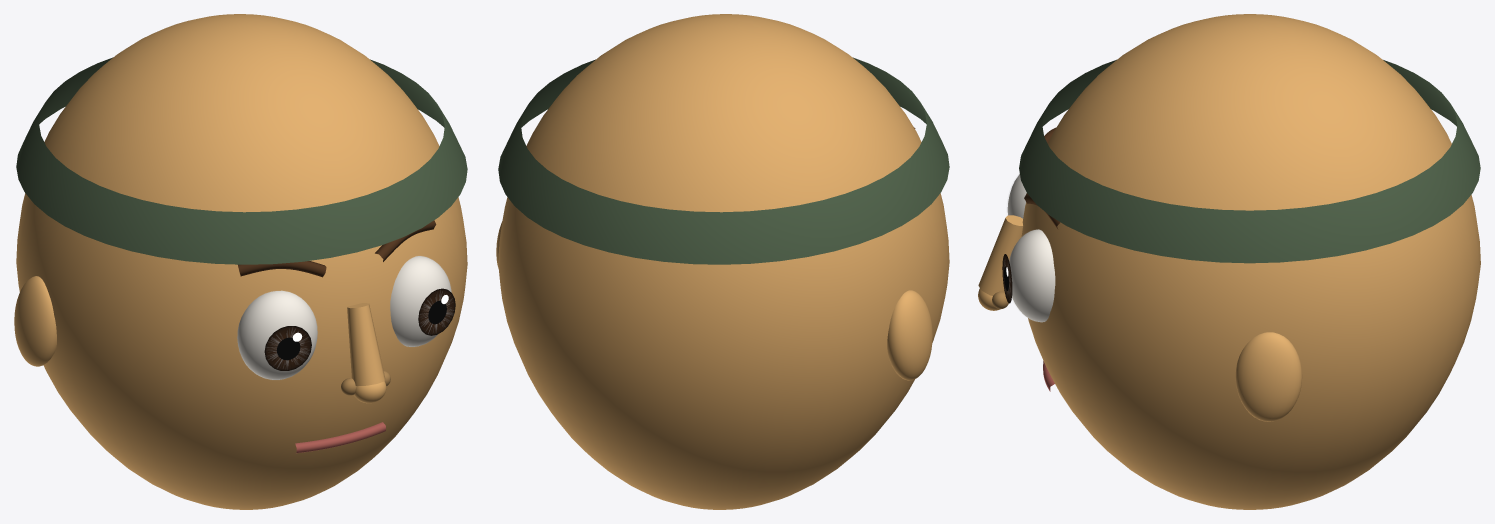
The model's file is 05-bandeau.glb.
3 renders of one model, left to right at view 1: azimuth 30°, elevation 25°; view 2: azimuth 150°, elevation 25°; view 3: azimuth 270°, elevation 25°, orthographic.
Bounding box in the file's own units: 0.3087 × 0.321 × 0.3166.
10 materials, 1 textured.
